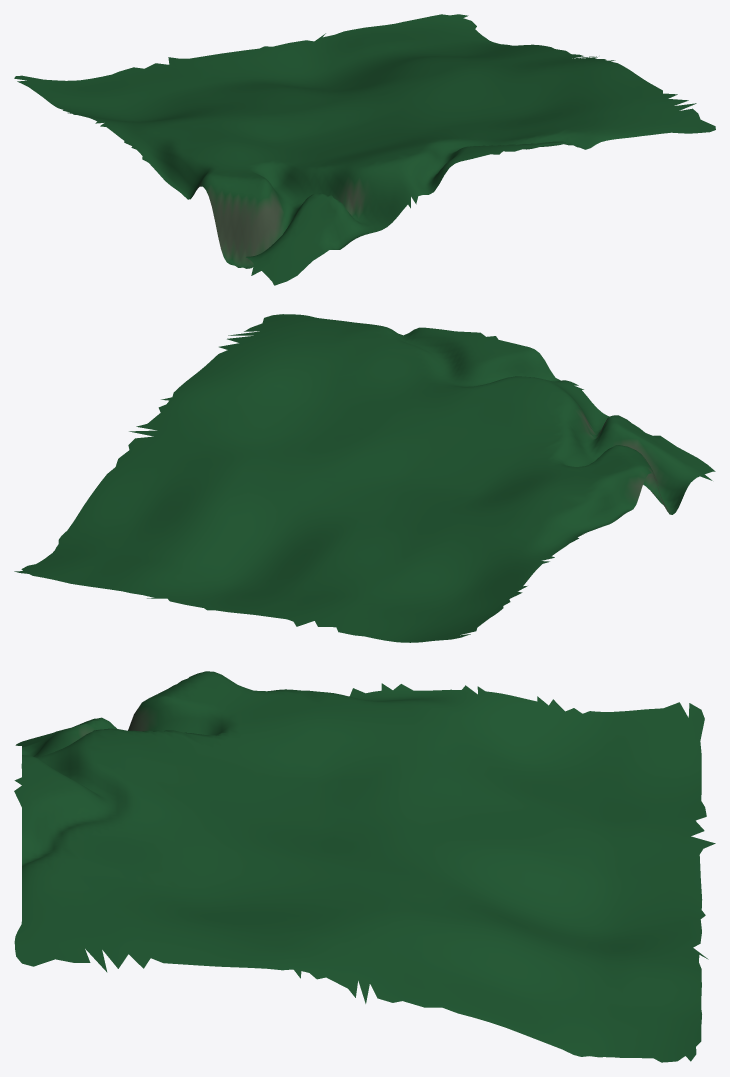
Rendered from payo_land_xm3_y3.glb.
3 views of the same model, one above another, from view 1: azimuth 30°, elevation 25°; view 2: azimuth 150°, elevation 25°; view 3: azimuth 270°, elevation 25° (orthographic). The views are drawn at different scales.
Parts seen in each view (by area): view 1: payo_land_xm3_y3; view 2: payo_land_xm3_y3; view 3: payo_land_xm3_y3.
Boxes of the visible parts, x1,y1,x2,y2 form: payo_land_xm3_y3: [14, 14, 715, 285]; payo_land_xm3_y3: [14, 314, 715, 642]; payo_land_xm3_y3: [14, 671, 715, 1062].
Size of the model in its own units: 268 by 57.29 by 263.
